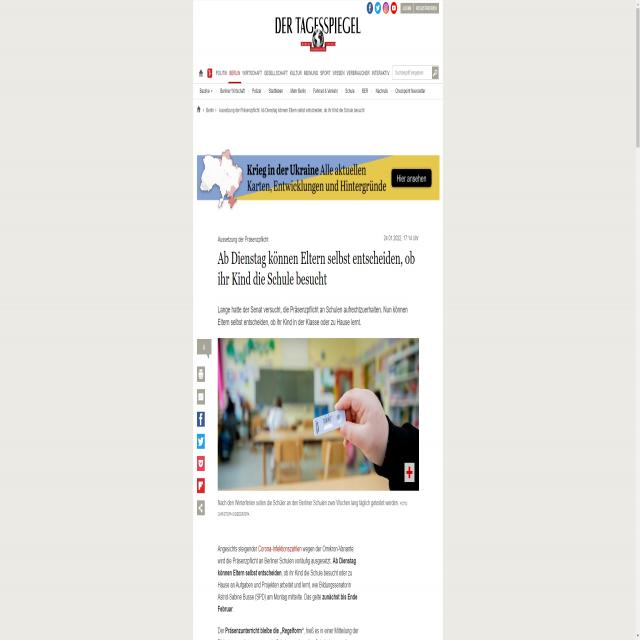search: (392, 63, 438, 79)
tab-bar: (198, 80, 426, 102), (214, 66, 392, 82)
